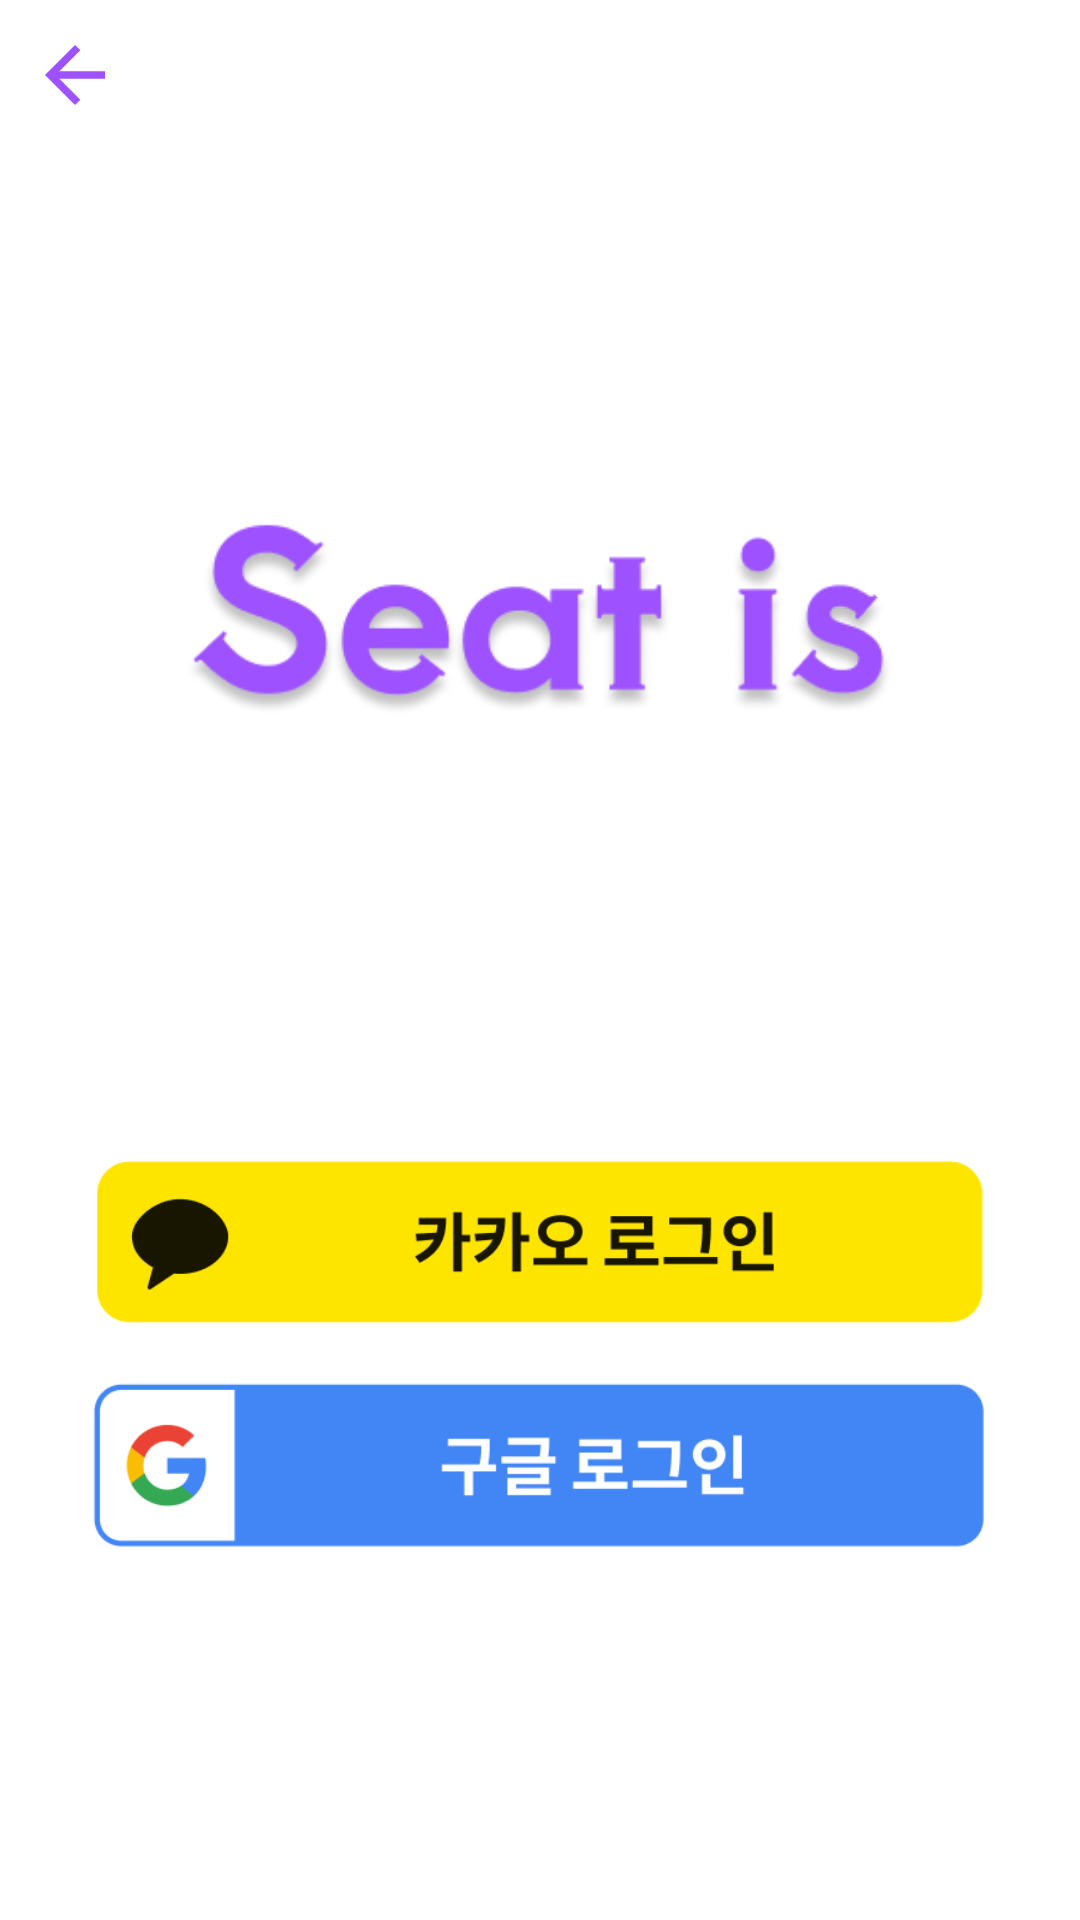

Icons on this 1080px x 1920px Android screen, each with its box as (x1, y1, x2, y2):
back: (45, 45, 105, 105)
